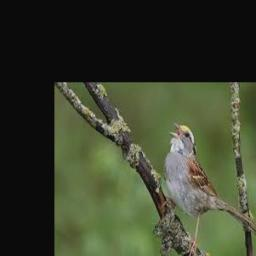Sparrow: (163, 121, 256, 256)
